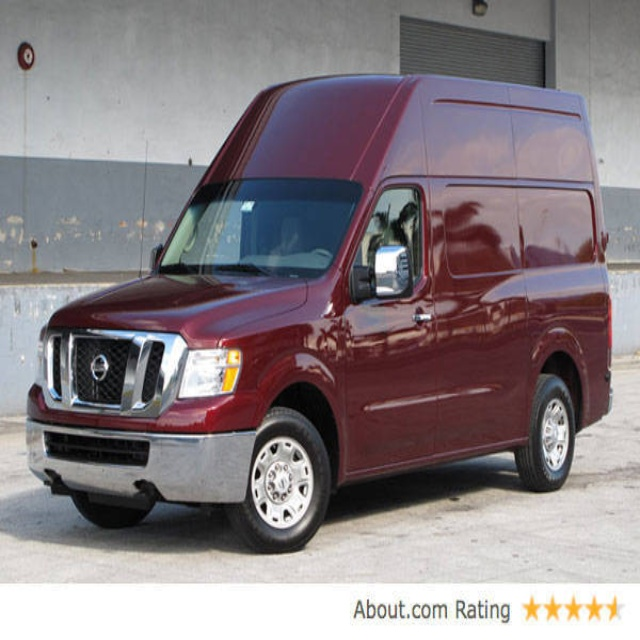Van: (25, 74, 612, 552)
